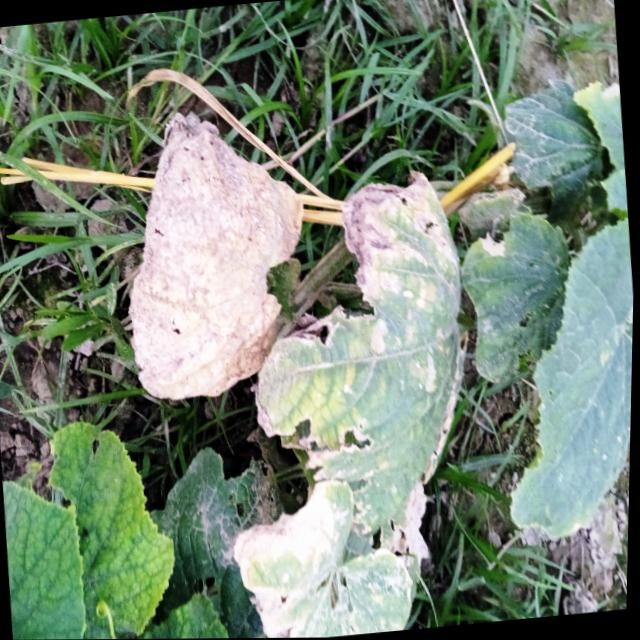Bacterial-Wilt: (130, 105, 305, 400)
